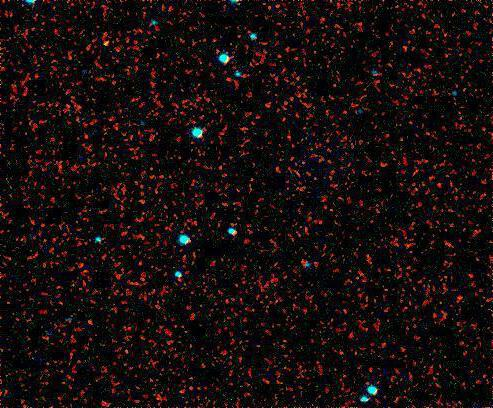star: (92, 29, 122, 59)
